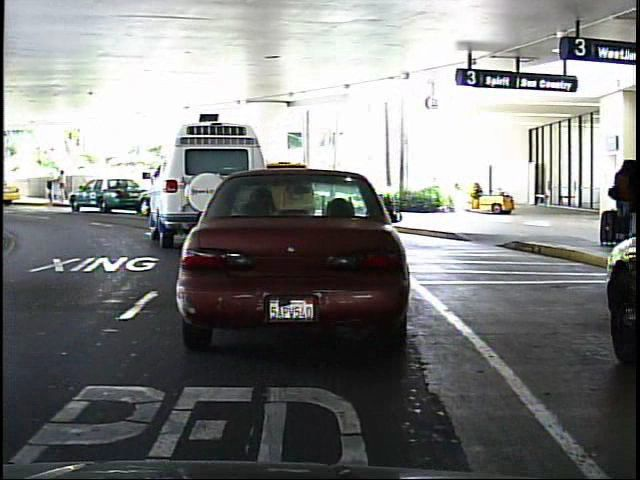person: (606, 137, 640, 254), (52, 162, 66, 202), (57, 166, 71, 203)
